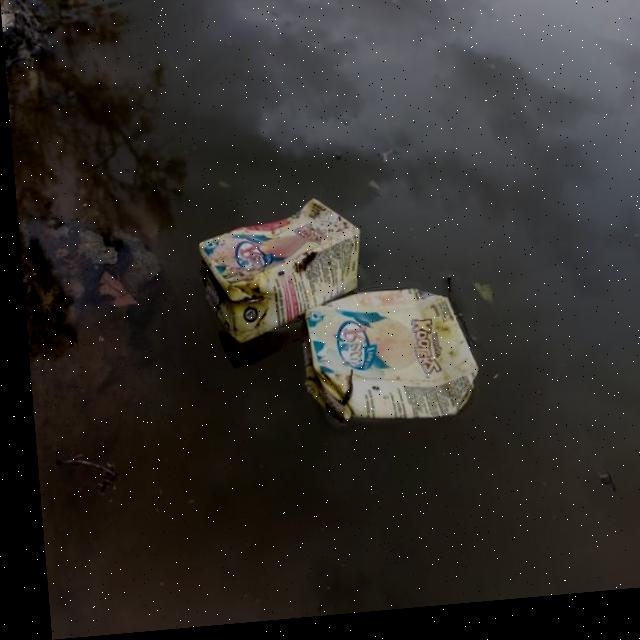paper: (288, 272, 500, 442), (169, 194, 362, 357)
